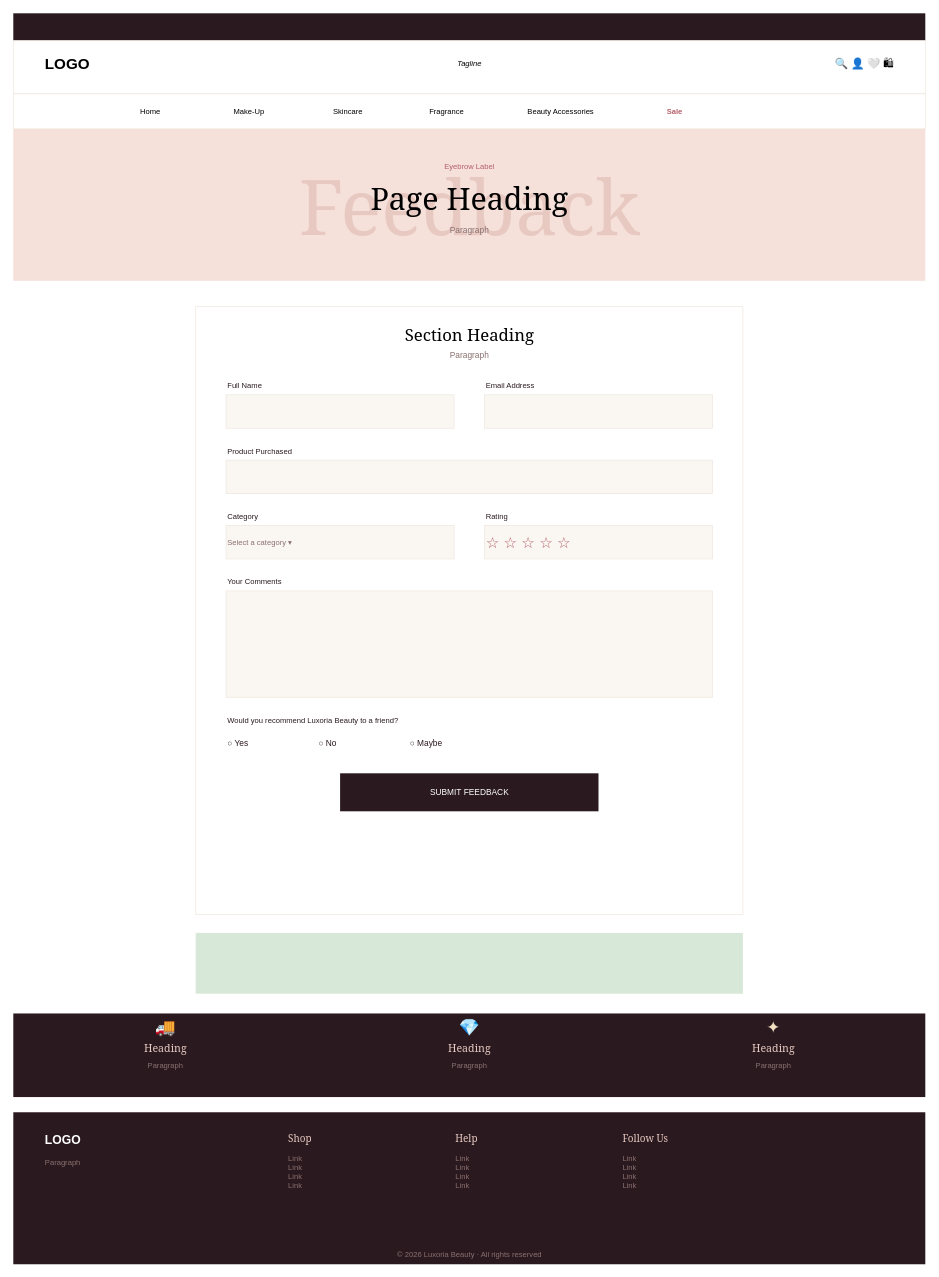
The diagram is 939 pixels wide and 1277 high, and some of its shapes have lost their labels. The box of each missing label's shape, as (x1, y1, x2, y2) in pixels:
Announcement Bar: (13, 13, 925, 40)
✓ Thank you for your feedback! We'll be in touch soon.: (195, 933, 743, 993)
